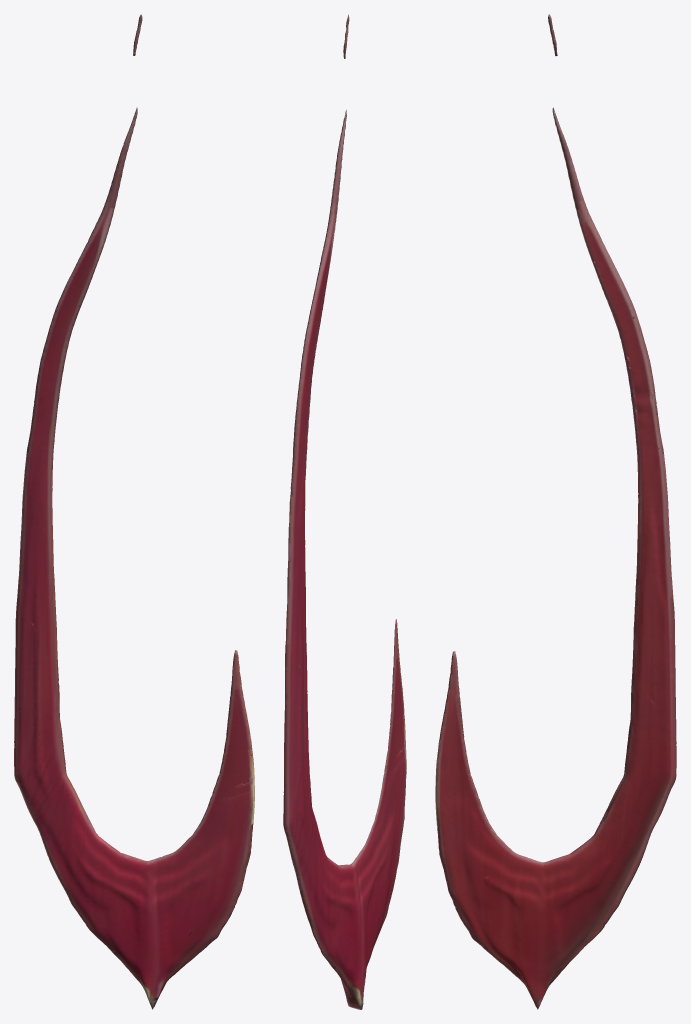
Rendered from red_bird_1212115918_texture.obj.
The picture shows the model from 3 angles, left to right: view 1: azimuth 90°, elevation 25°; view 2: azimuth 150°, elevation 25°; view 3: azimuth 270°, elevation 25°; orthographic projection.
Parts seen in each view (by area): view 1: red_bird_1212115918_texture; view 2: red_bird_1212115918_texture; view 3: red_bird_1212115918_texture.
Part boxes in pixels (box(x1,y1,x2,y2)): red_bird_1212115918_texture: box(14, 14, 254, 1009); red_bird_1212115918_texture: box(283, 14, 406, 1009); red_bird_1212115918_texture: box(435, 14, 676, 1009).
Size of the model in its own units: 0.0333 by 2.01 by 0.4418.
Materials: 1 (1 with a texture image).
